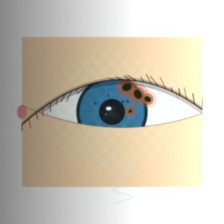foreign_body_visible: (121, 104, 140, 119)
